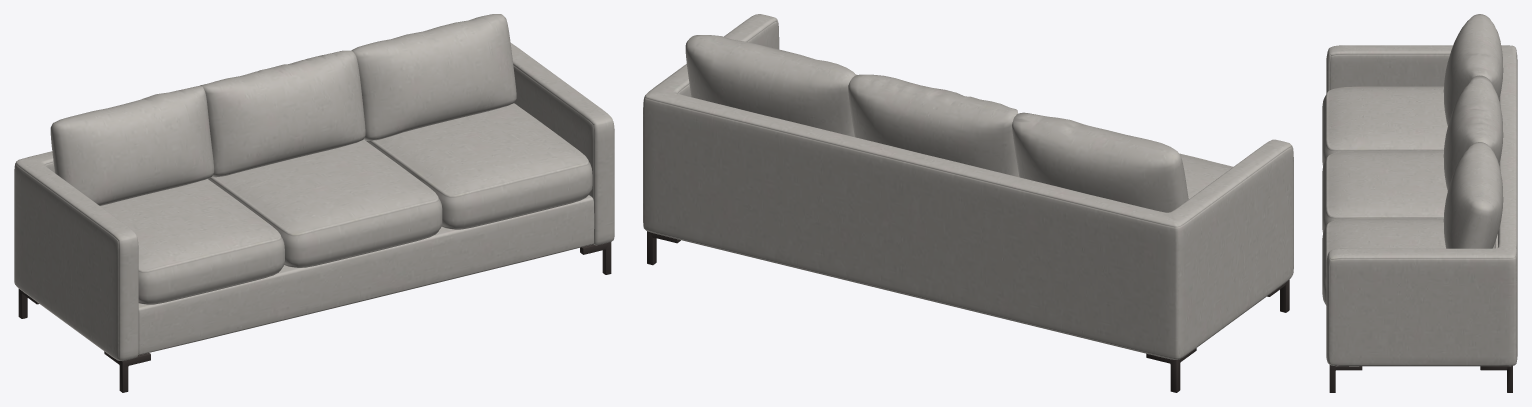
Rendered from B07B4MDGDF.glb.
3 renders of one model, left to right at view 1: azimuth 30°, elevation 25°; view 2: azimuth 150°, elevation 25°; view 3: azimuth 270°, elevation 25°, orthographic. The views are drawn at different scales.
Visible parts, largest first — view 1: RootNode; view 2: RootNode; view 3: RootNode.
Boxes of the visible parts, bbox=[...] form: RootNode: bbox=[14, 14, 614, 392]; RootNode: bbox=[643, 14, 1293, 392]; RootNode: bbox=[1322, 14, 1517, 392].
Bounding box in the file's own units: 2.22 × 0.8744 × 0.859.
Materials: 1 (1 with a texture image).
